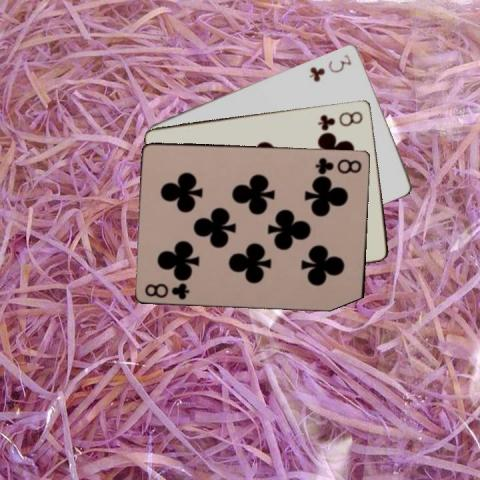3c: (306, 51, 353, 83)
8c: (314, 108, 364, 130), (313, 154, 363, 175), (142, 280, 191, 301)
